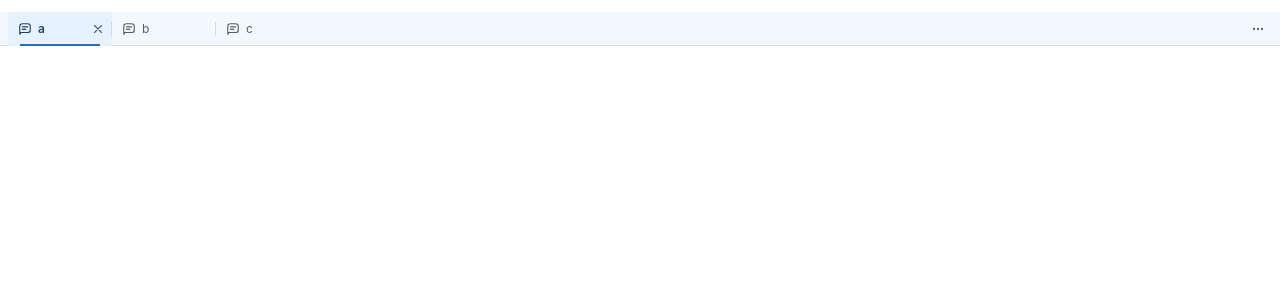
Scenario: tab actions are reachable without a context click and support keyboard focus
The width and height of the screenshot is (1280, 286).
Click the button named "页签操作".
click(1258, 29)  # box left=1244, top=15, right=1272, bottom=43
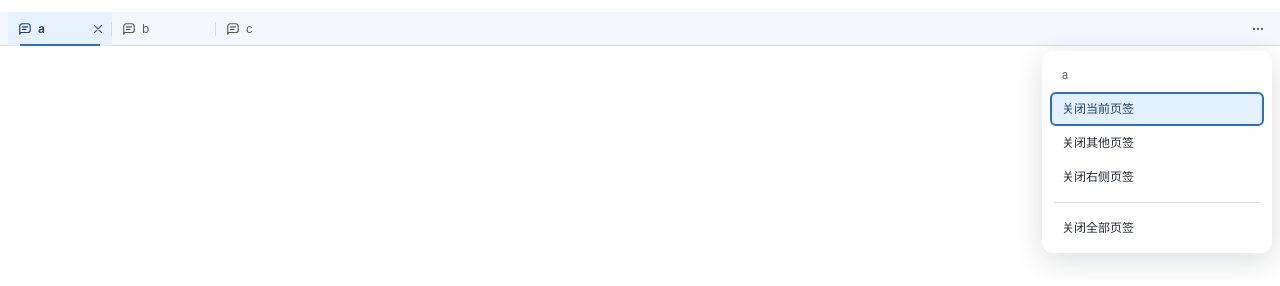
Press ArrowDown in the menu, box left=1042, top=51, right=1272, bottom=252
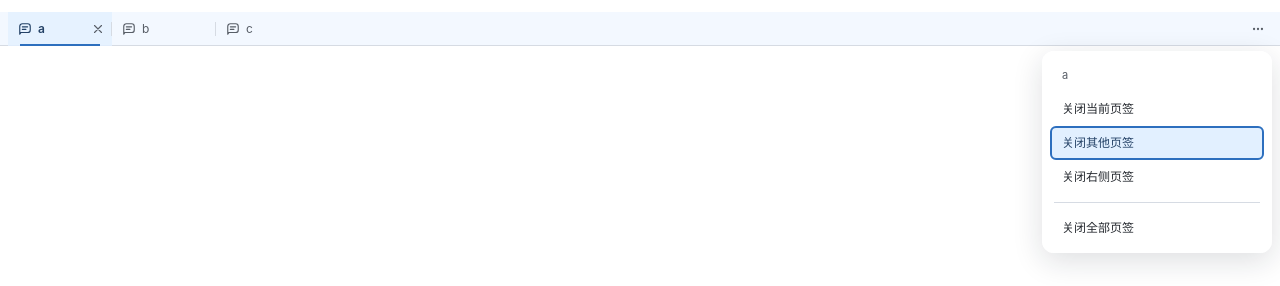
Press Escape in the menu, box left=1042, top=51, right=1272, bottom=252
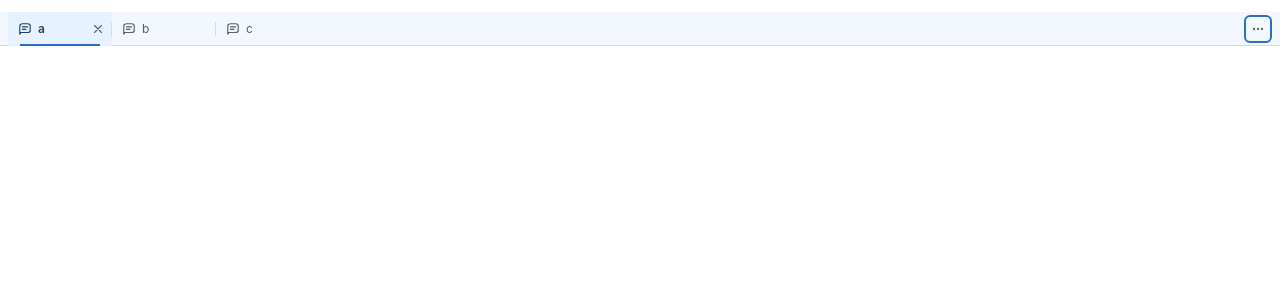
Result: the menu is gone
